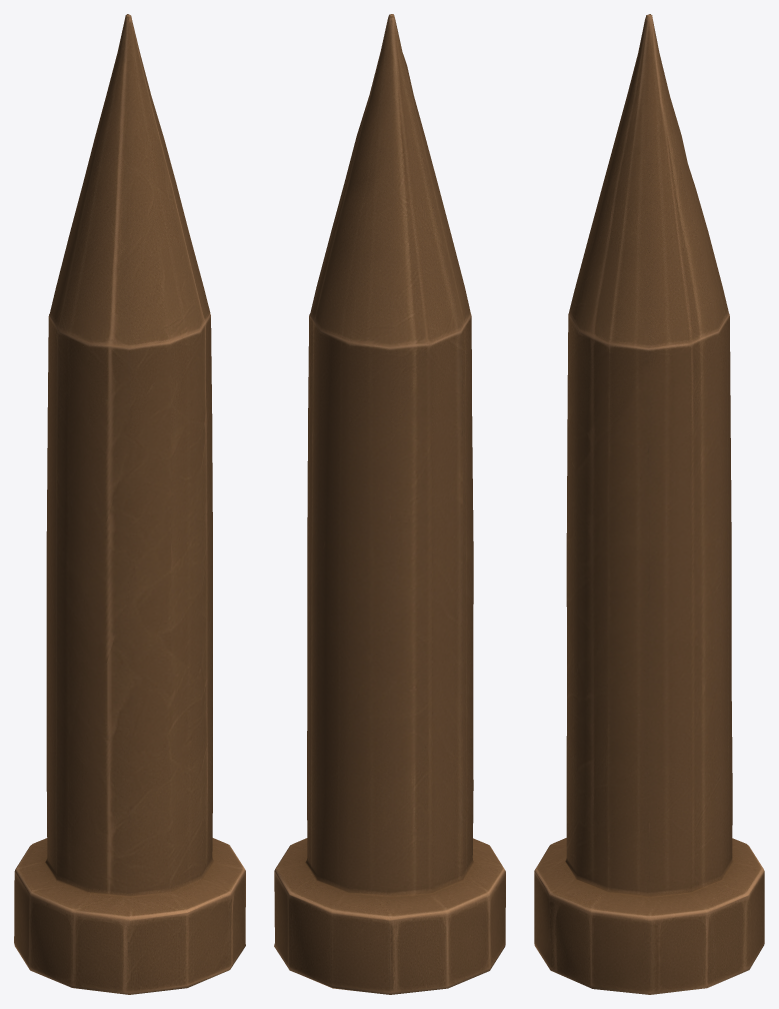
The model's file is spike.glb.
3 views of the same model, side by side, from view 1: azimuth 30°, elevation 25°; view 2: azimuth 150°, elevation 25°; view 3: azimuth 270°, elevation 25° (orthographic).
Bounding box in the file's own units: 0.2252 × 1 × 0.2246.
1 material, 1 textured.
